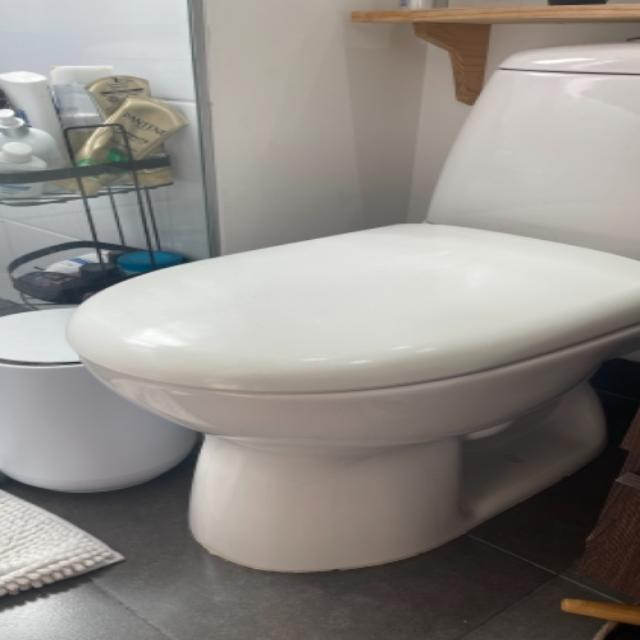toilet: (65, 39, 639, 573)
